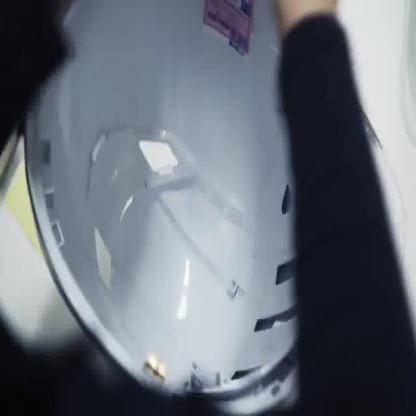helmet: (23, 0, 408, 415)
